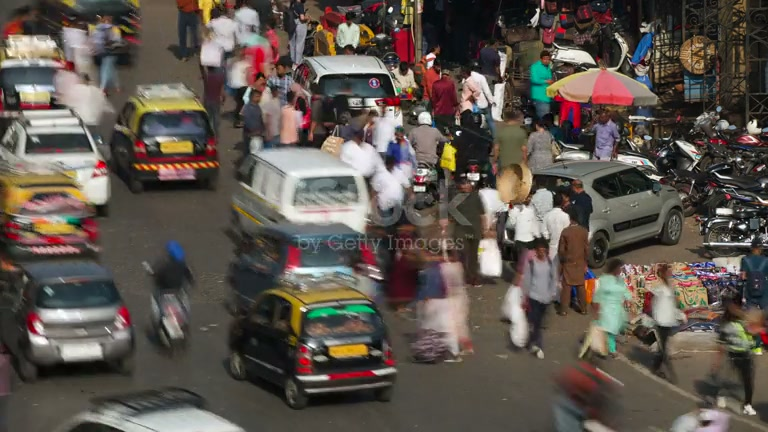car: (223, 271, 399, 410), (0, 252, 137, 382), (526, 157, 685, 266), (227, 144, 372, 258), (109, 82, 220, 194), (0, 112, 112, 214), (292, 54, 403, 148), (54, 387, 246, 431), (0, 178, 103, 253)
motorcycle: (697, 189, 768, 246), (146, 283, 192, 350)
pedestrian: (694, 291, 763, 415), (577, 257, 632, 361), (641, 263, 688, 378), (520, 238, 560, 360), (557, 207, 589, 316), (738, 236, 768, 314), (408, 112, 445, 170), (529, 49, 555, 126), (525, 118, 562, 171), (590, 111, 620, 162), (568, 178, 593, 230)
